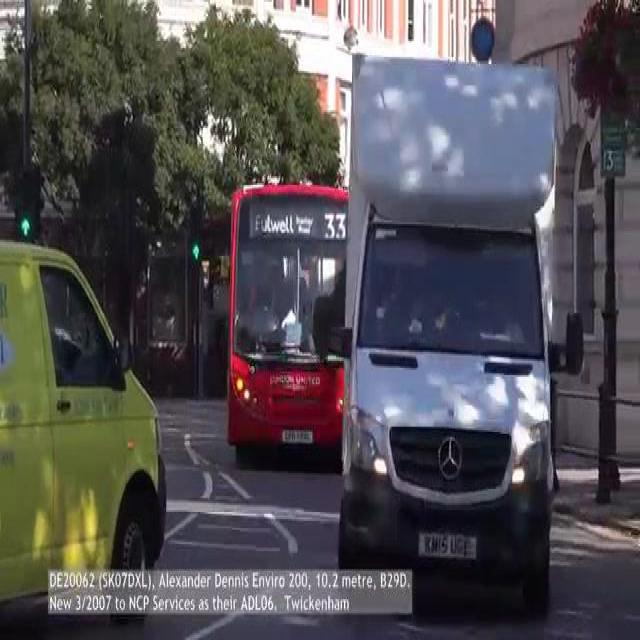motorcycle: (216, 197, 360, 459)
